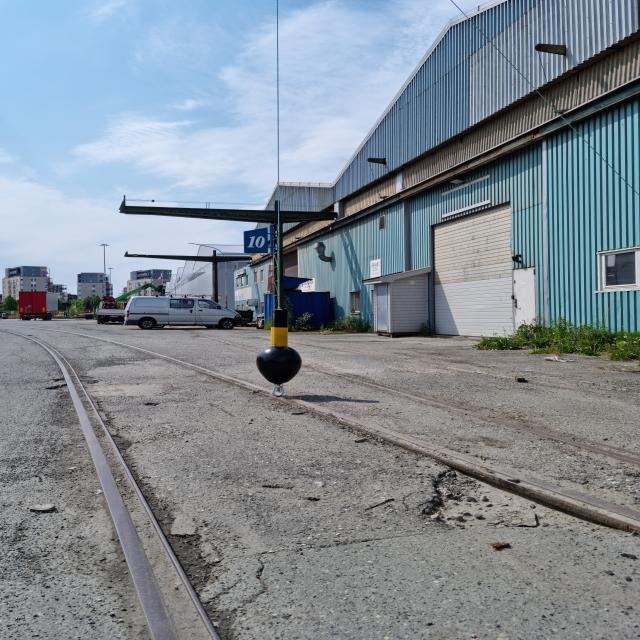east: (256, 310, 300, 384)
